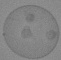small: (45, 29, 55, 40), (22, 27, 32, 37), (25, 14, 35, 22)
